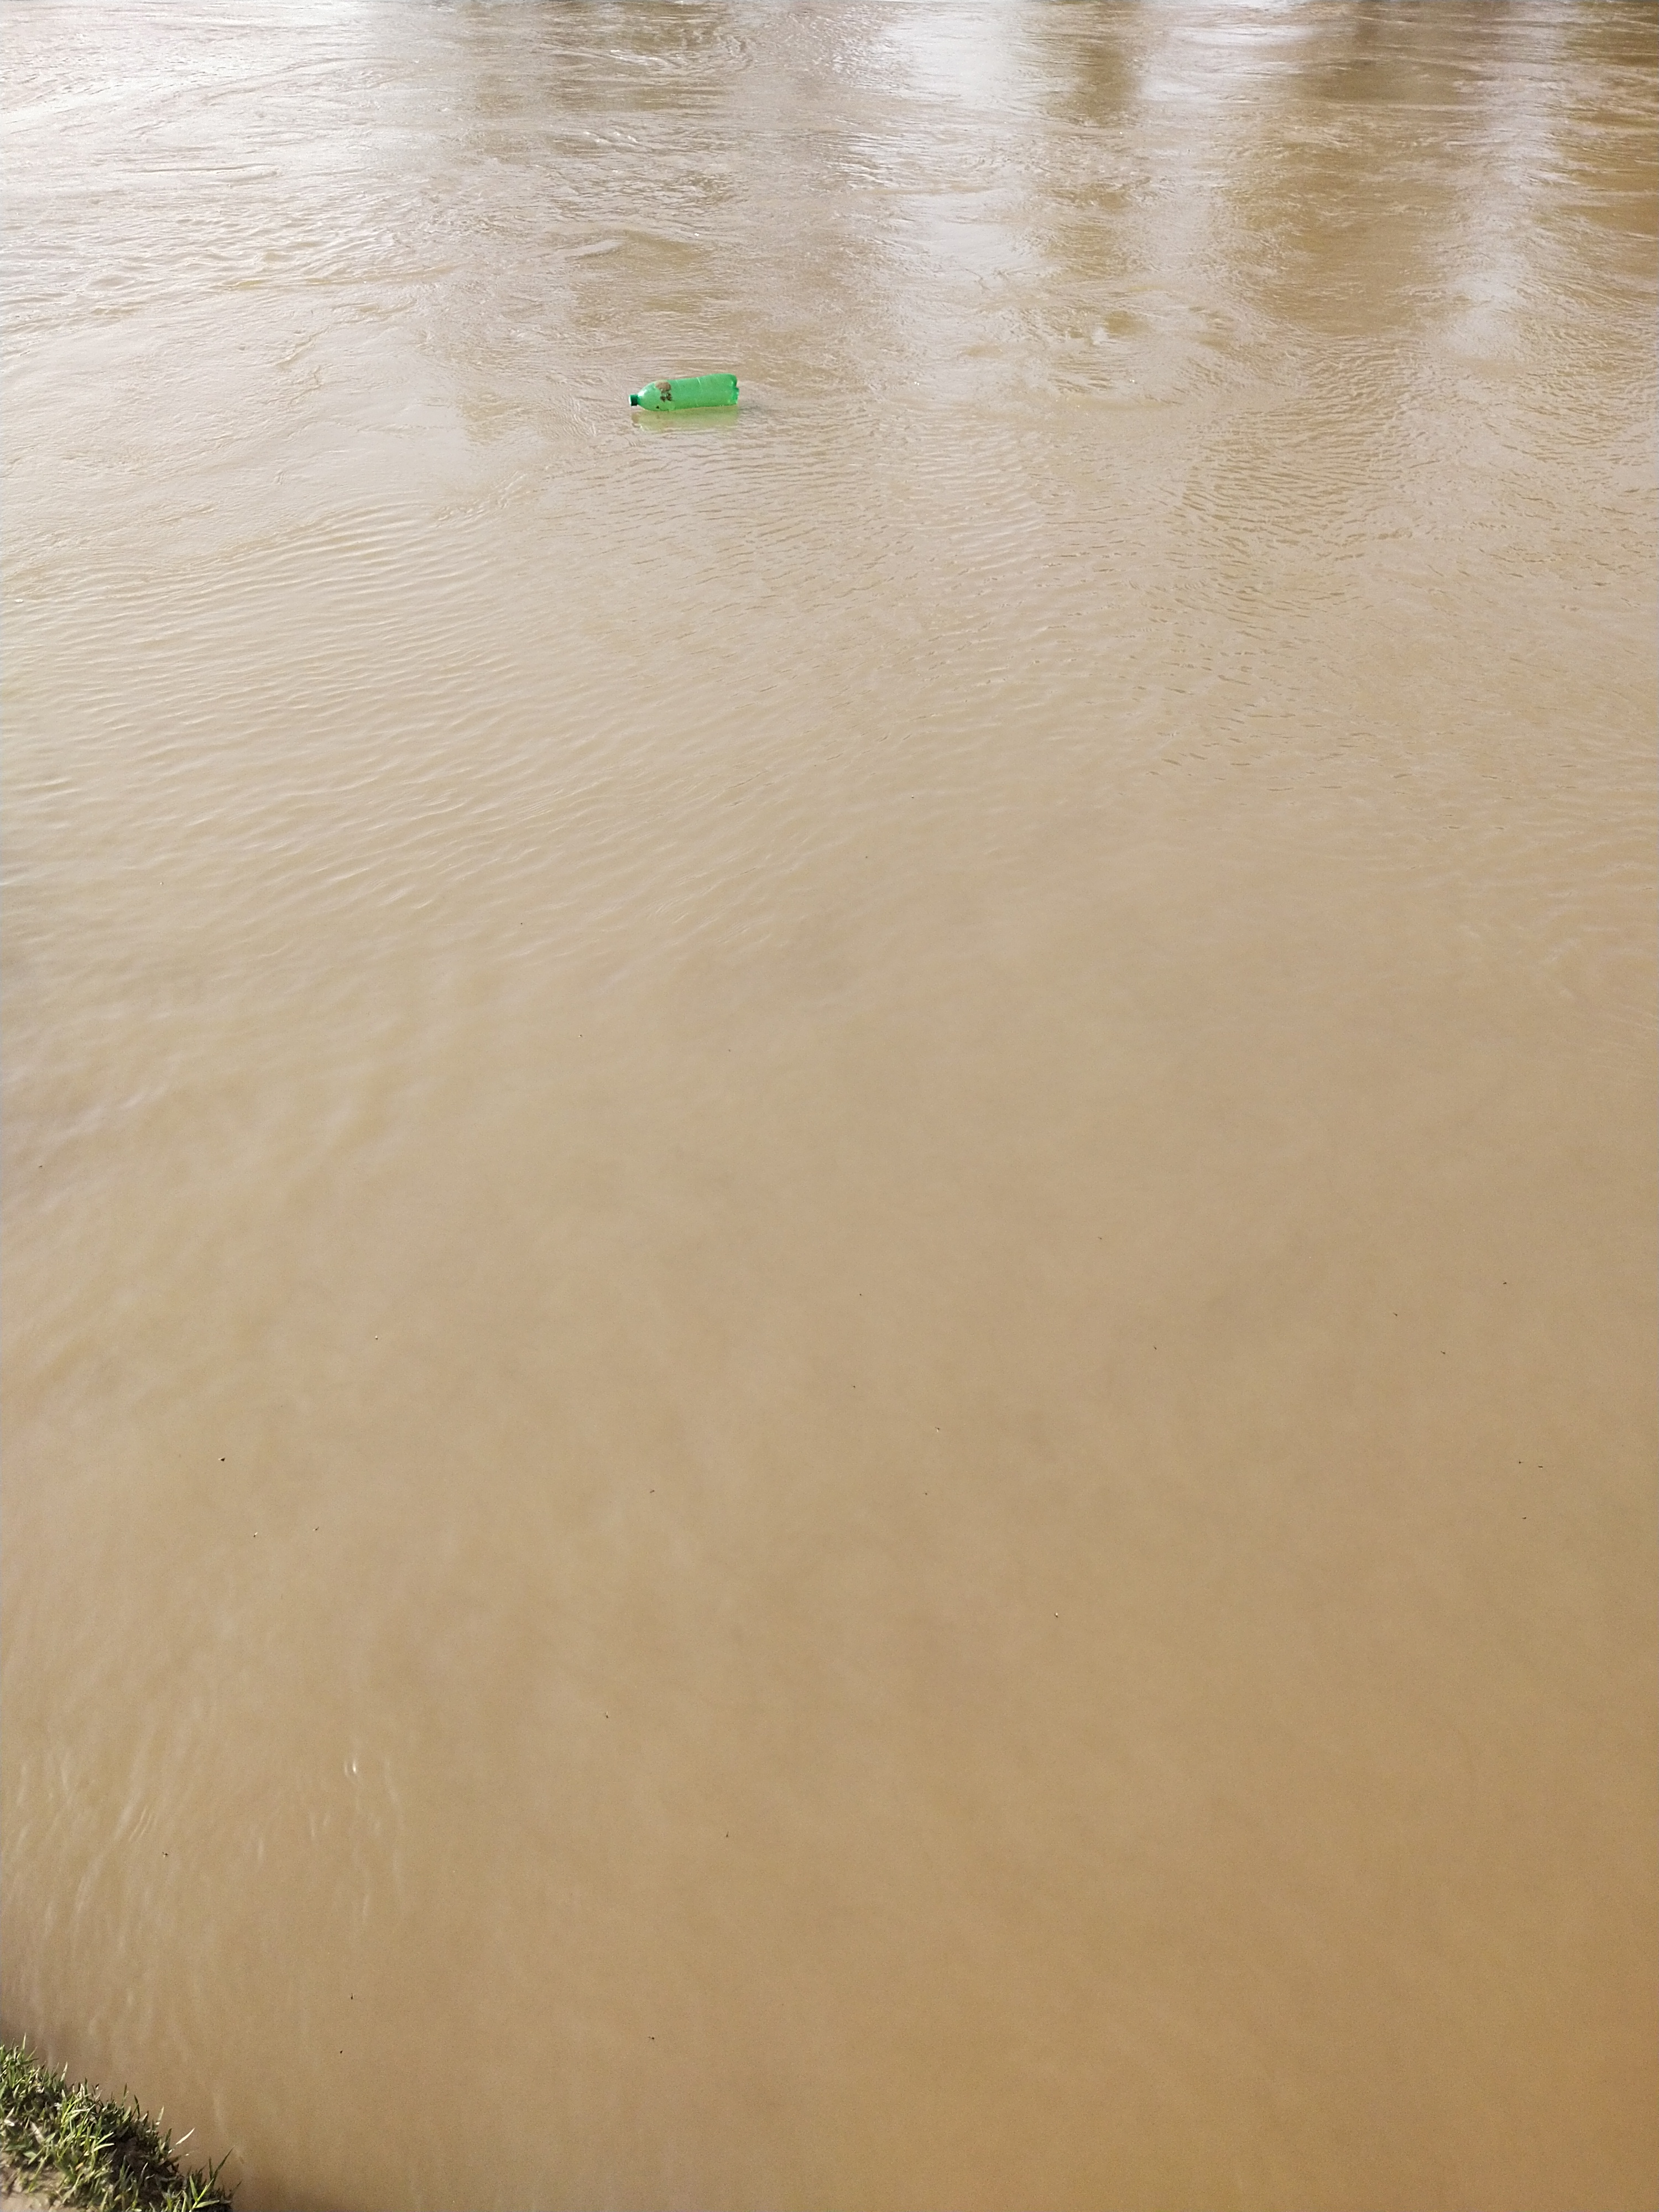Plastic Bottle: (629, 373, 739, 411)
